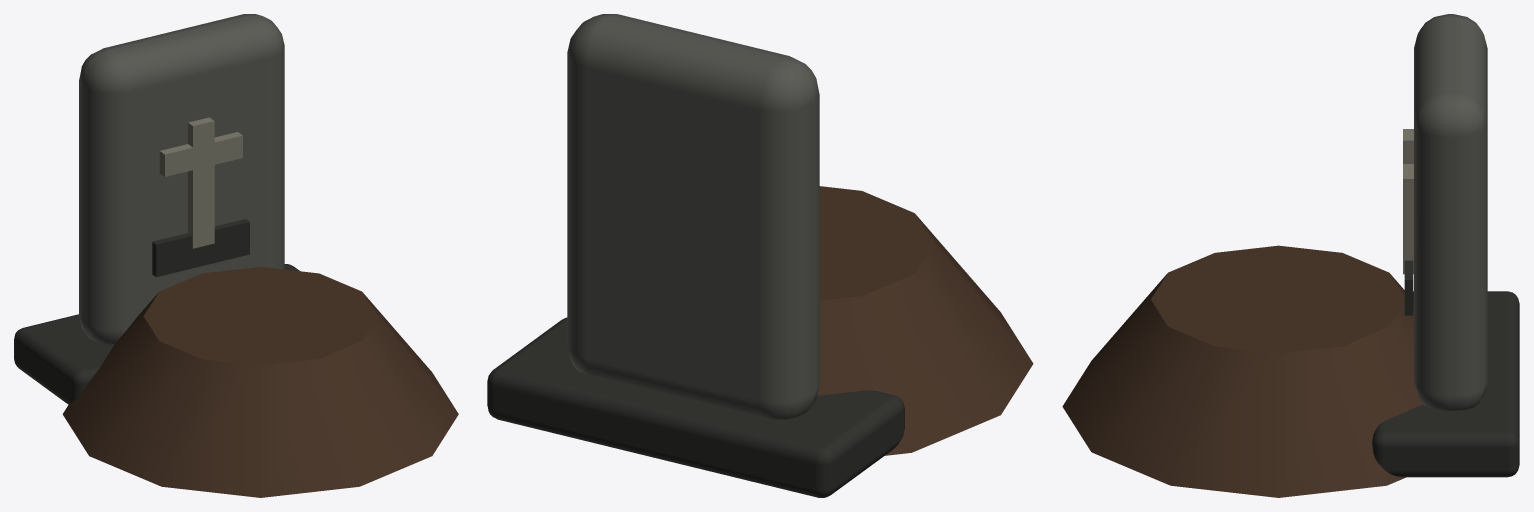
File: sk_grave.glb
The picture shows the model from 3 angles, left to right: view 1: azimuth 30°, elevation 25°; view 2: azimuth 150°, elevation 25°; view 3: azimuth 270°, elevation 25°; orthographic projection. The views are drawn at different scales.
Visible parts, largest first — view 1: stone; view 2: stone; view 3: stone.
Boxes of the visible parts, <box> form: stone: <box>14,14,458,497</box>; stone: <box>487,14,1033,497</box>; stone: <box>1062,14,1519,497</box>.
Size of the model in its own units: 0.88 by 0.79 by 0.93.
